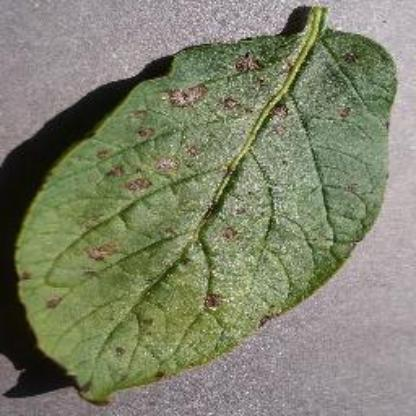Early-Blight: (8, 5, 408, 406)
